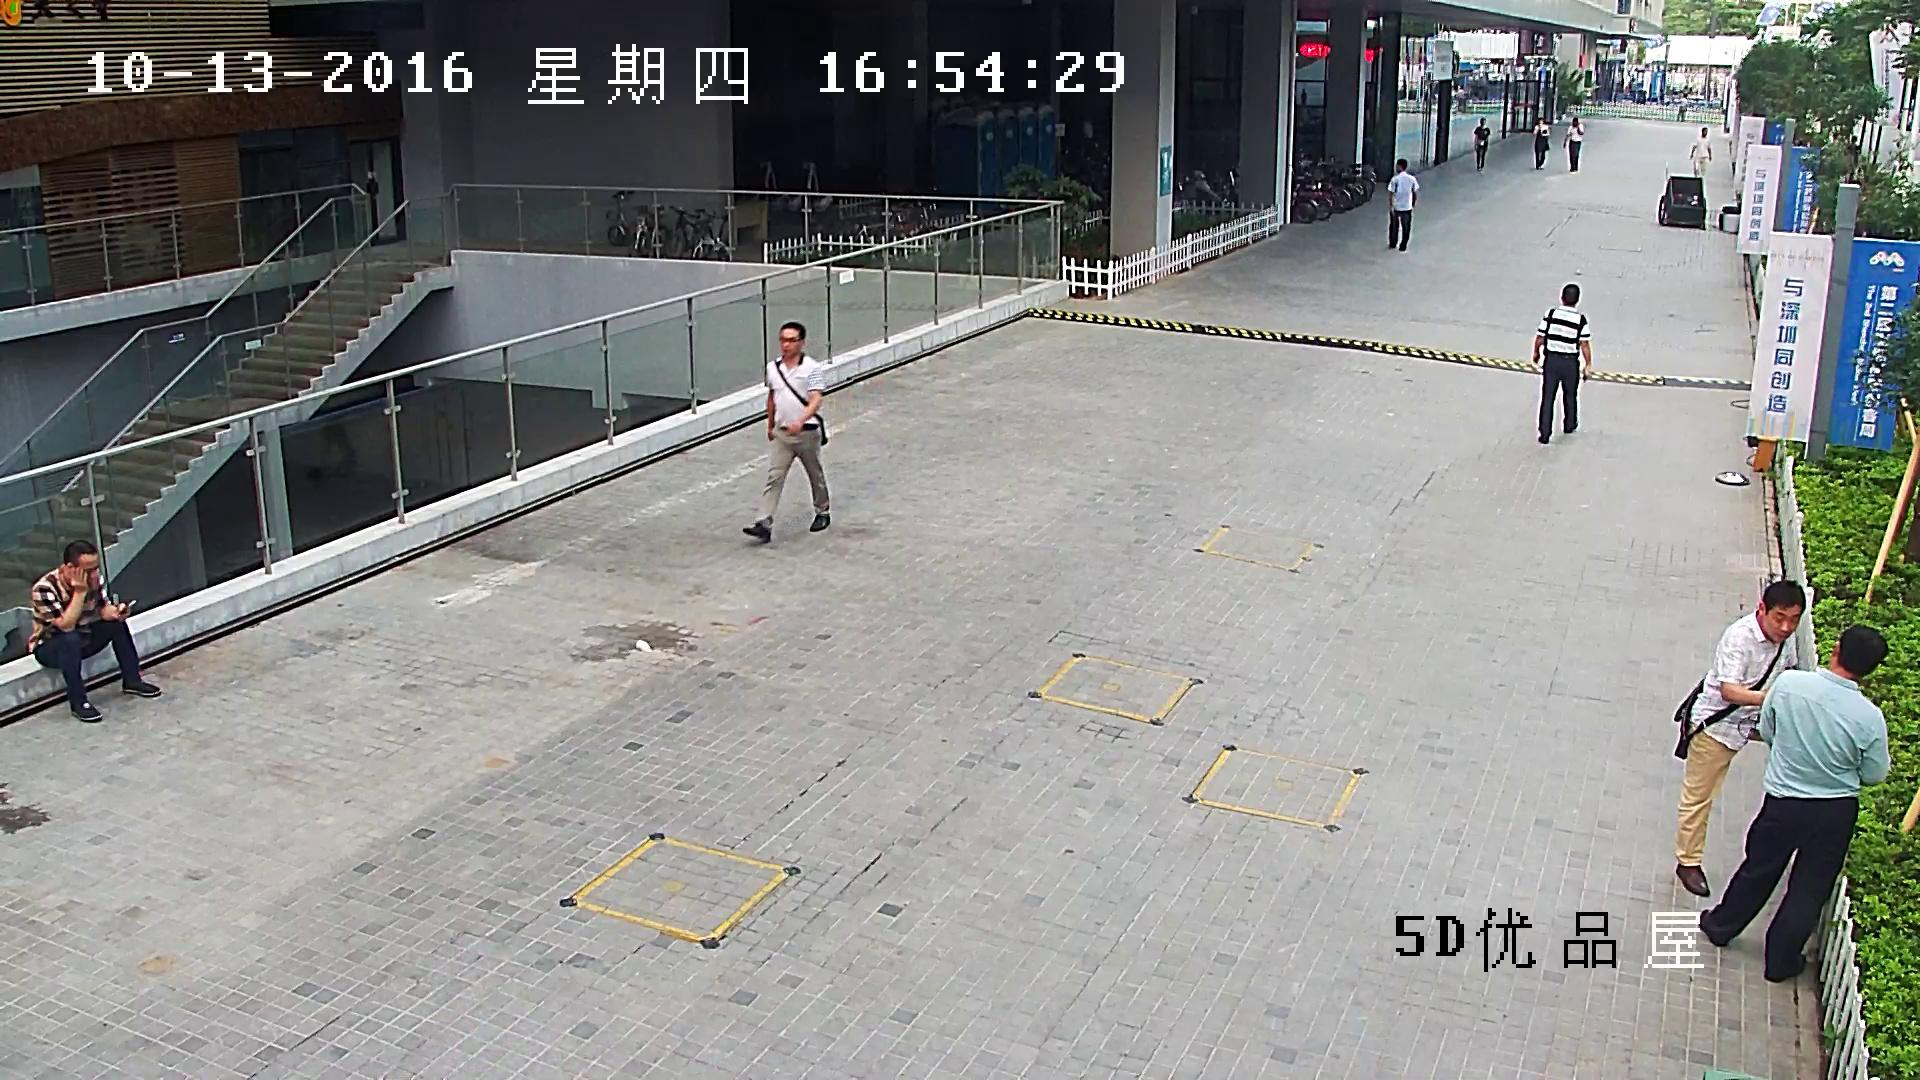person: (1698, 623, 1889, 983), (1673, 580, 1806, 897), (24, 539, 160, 722), (742, 322, 830, 542), (1533, 283, 1590, 443), (1388, 158, 1420, 251), (1564, 116, 1584, 171), (1690, 126, 1712, 175), (1473, 118, 1490, 170), (1532, 117, 1550, 170), (1675, 95, 1686, 122)
